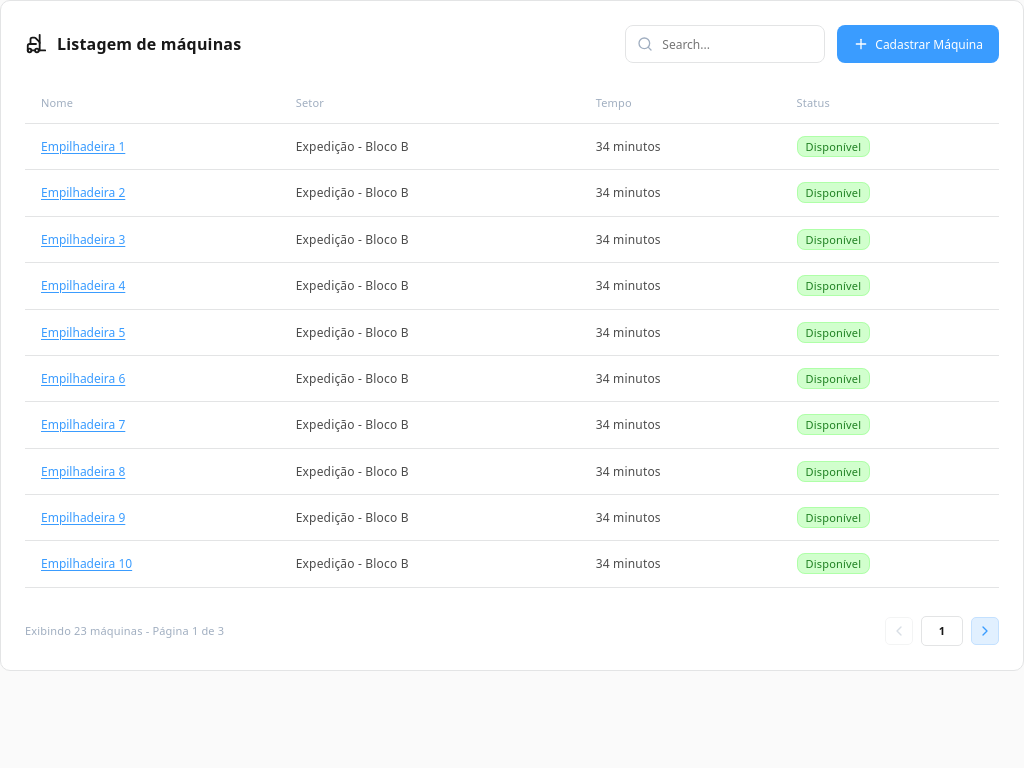
Test case: MachineTable › paginates 23 machines into 3 pages, disables prev on page 1, enables next, and on page 3 shows 3 rows with next disabled
expect the text "Exibindo 23 máquinas - Página 1 de 3" is shown: met, box 25,623 -> 224,639
expect the button named "Página anterior" is disabled: met, box 885,617 -> 913,645
// Navigate to page 2
Click the button named "Próxima página" at (985, 631), box 971,617 -> 999,645
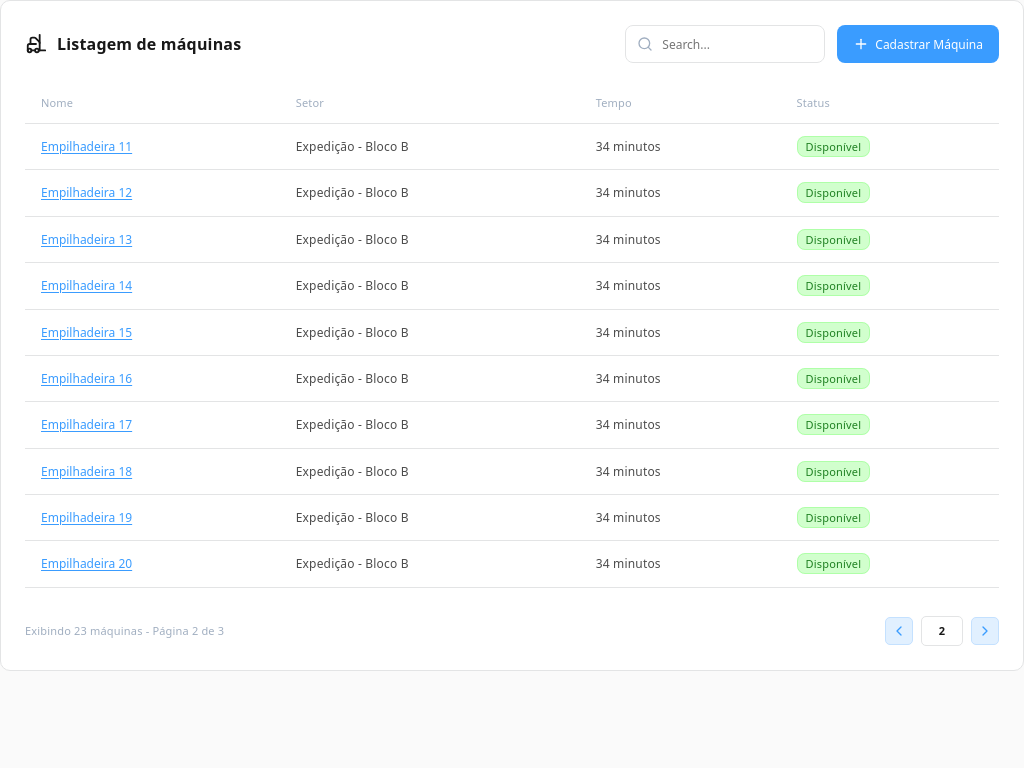
expect the text "Exibindo 23 máquinas - Página 2 de 3" is shown: met, box 25,623 -> 224,639
expect the button named "Página anterior" is enabled: met, box 885,617 -> 913,645
// Navigate to page 3
Click the button named "Próxima página" at (985, 631), box 971,617 -> 999,645
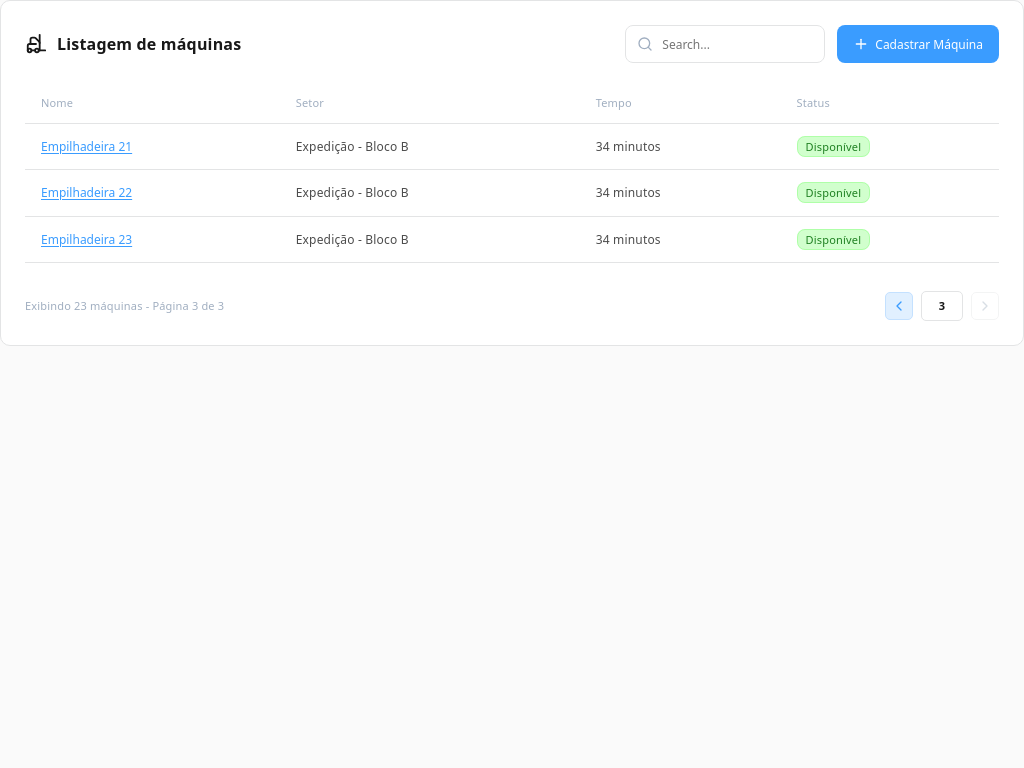
expect the button named "Página anterior" is enabled: met, box 885,292 -> 913,320
expect the text "Exibindo 23 máquinas - Página 3 de 3" is shown: met, box 25,298 -> 224,314
expect the button "Empilhadeira 21" is shown: met, box 41,138 -> 132,155
